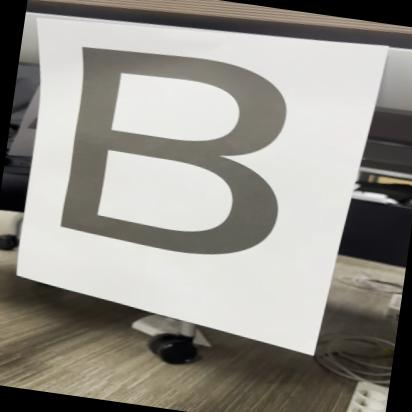seat: (38, 32, 304, 281)
